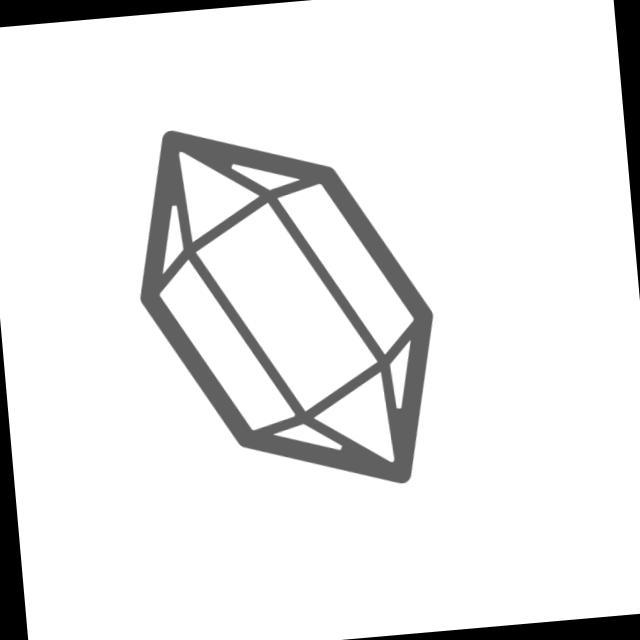crystal: (116, 103, 456, 512)
